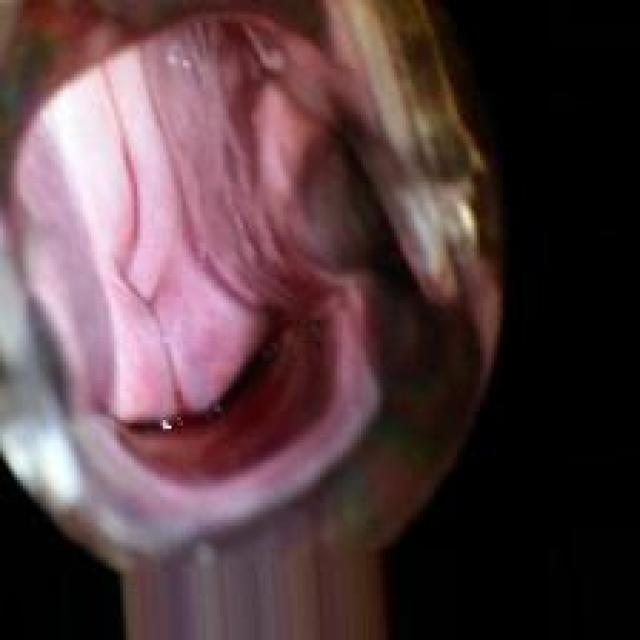type-3: (0, 0, 497, 583)
